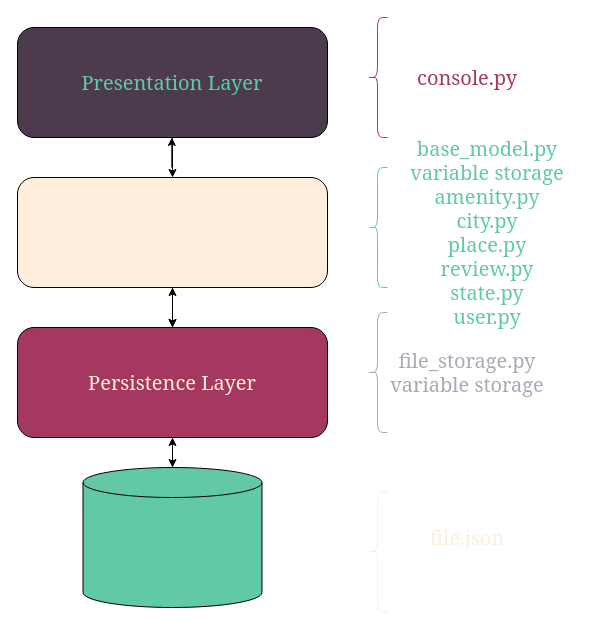
Image size: 595x629. Some labels were removed from this diagram. The shapes that lost their labels are listed below. From the top down, each one's centre as x and y in pixels, then its label:
the point at 172,232: Business Layer
the point at 172,537: Database
